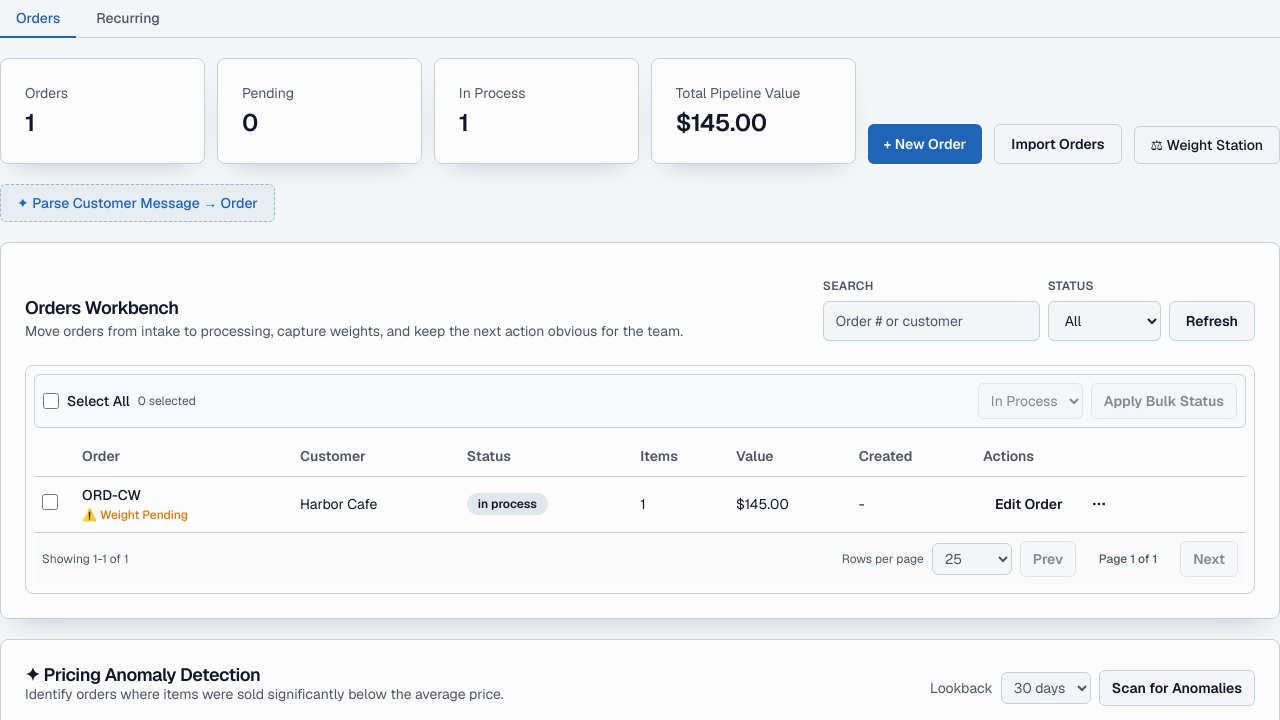
Scenario: OrdersPage › shows catch-weight actions and saves actual weights for admin users
Expected: the text "ORD-CW" is shown, [82, 486, 141, 504]
Click the button named "Actions for ORD-CW" at (1099, 504), box [1079, 486, 1119, 522]
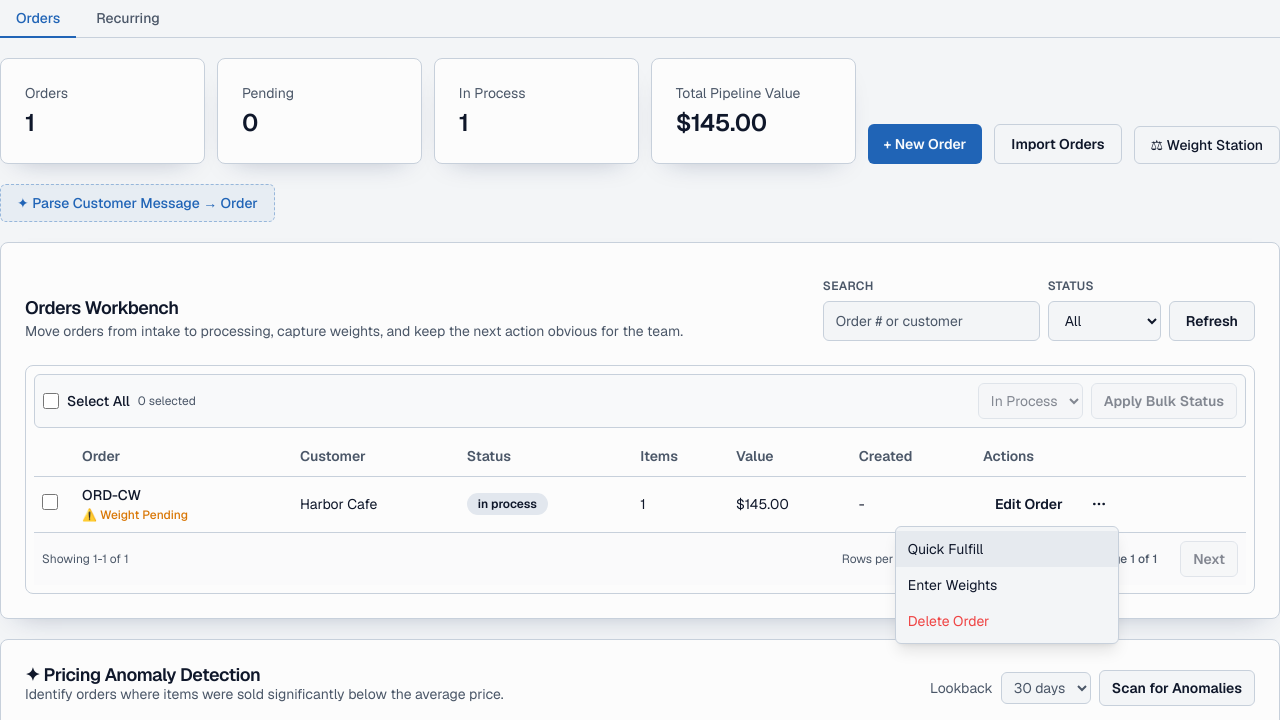
Click the menu item "Enter Weights" at (1007, 585), box [896, 567, 1118, 603]
(page scrolled)
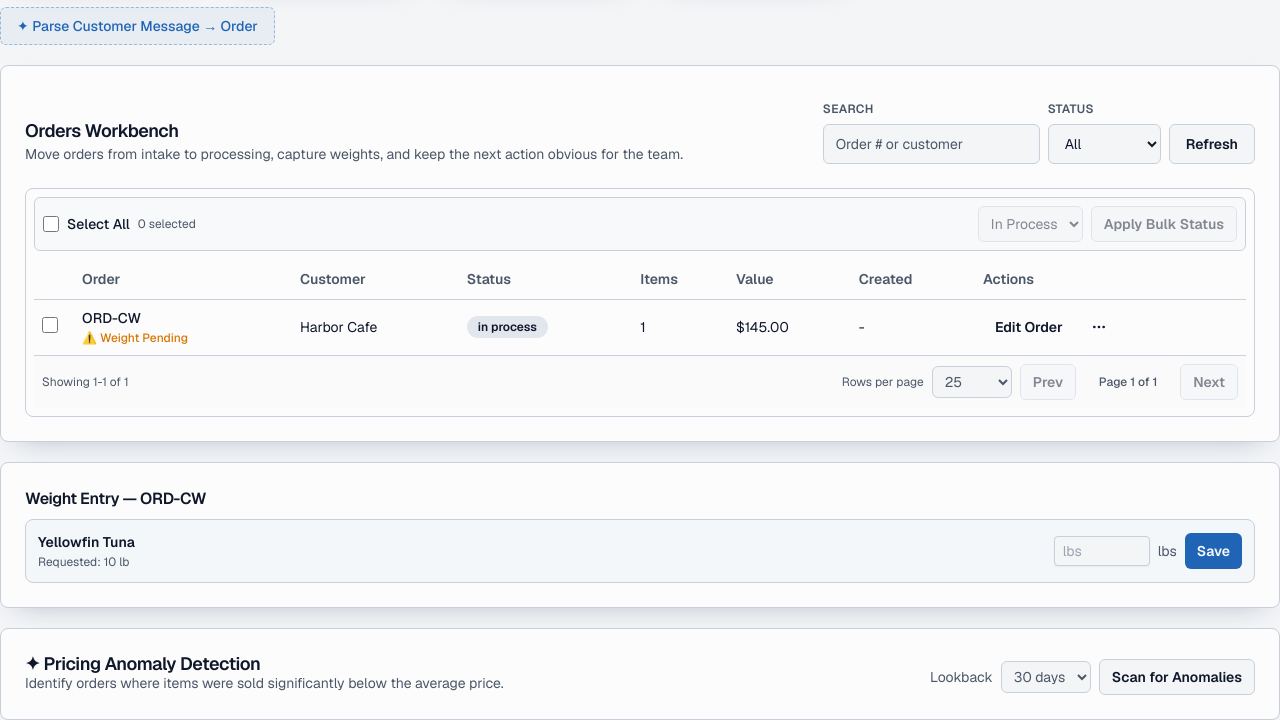
Expected: the heading "Weight Entry — ORD-CW" is shown, [25, 488, 206, 508]
Type "10.250" into the number field with placeholder "lbs" at (1102, 550), box [1054, 536, 1150, 566]
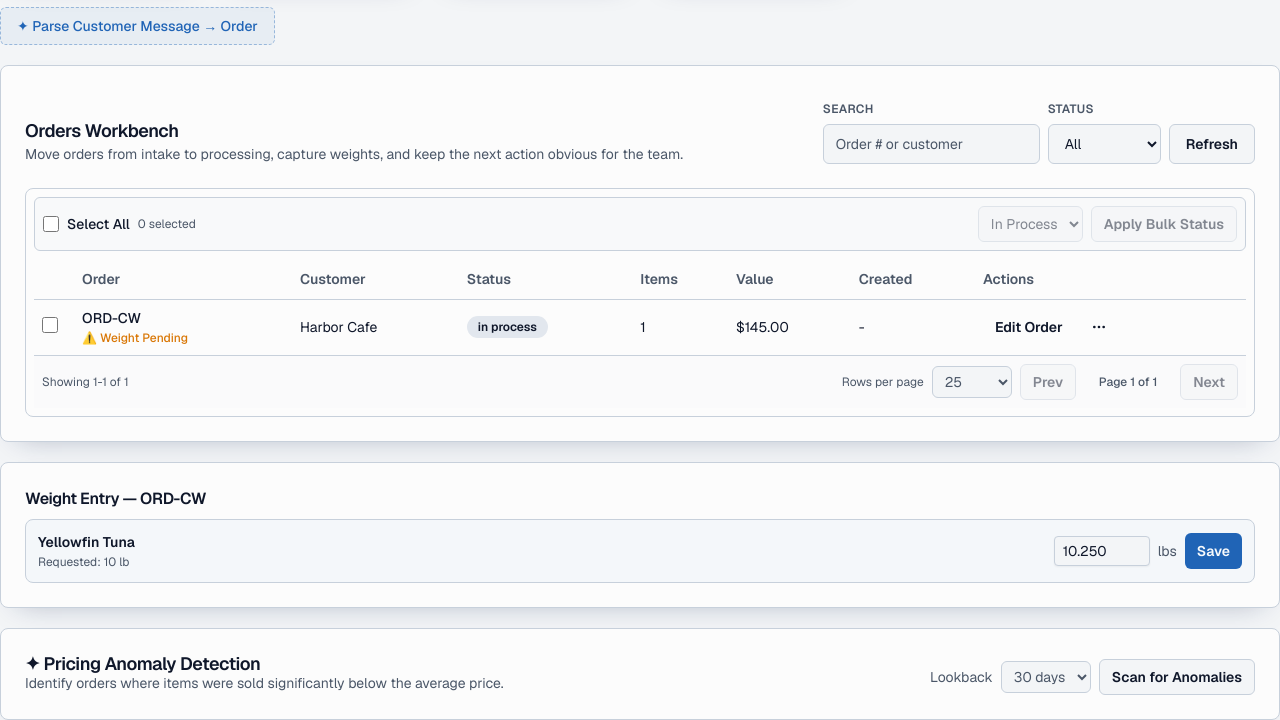
Click the button "Save" at (1213, 550), box [1185, 532, 1242, 568]
(page scrolled)
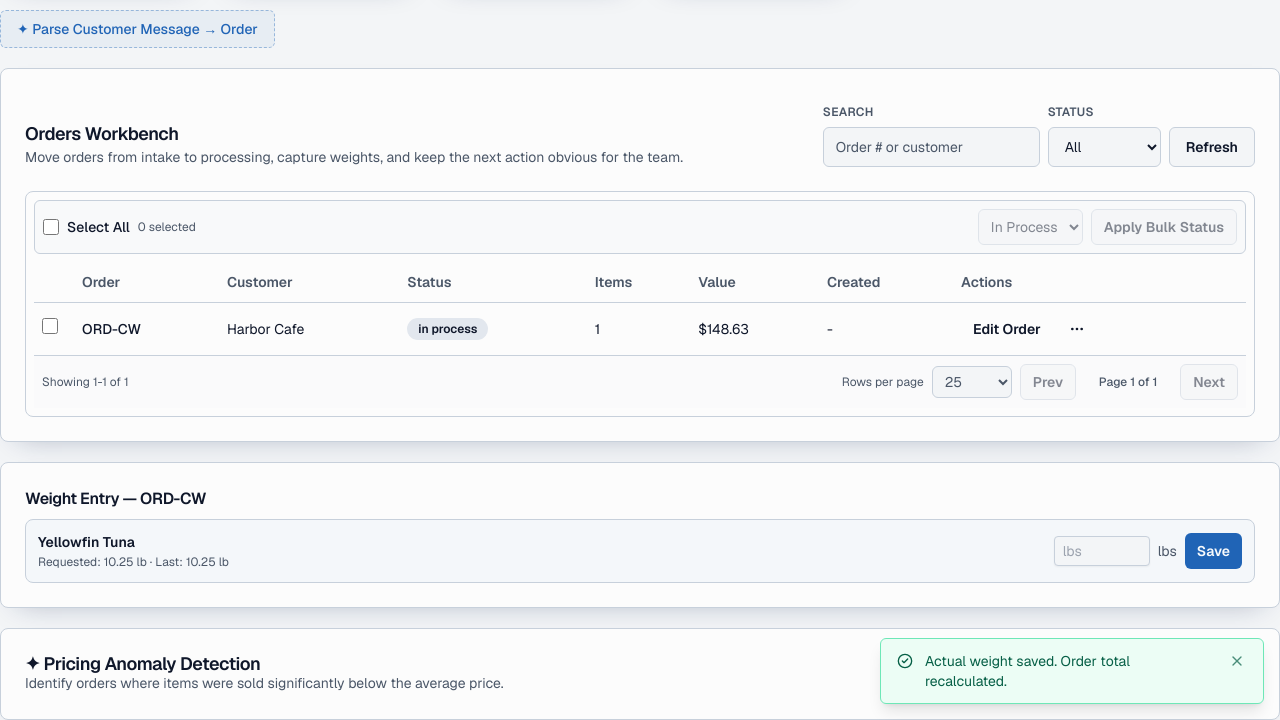
Expected: the text "Actual weight saved. Order total recalculated." is shown, [925, 652, 1133, 690]
